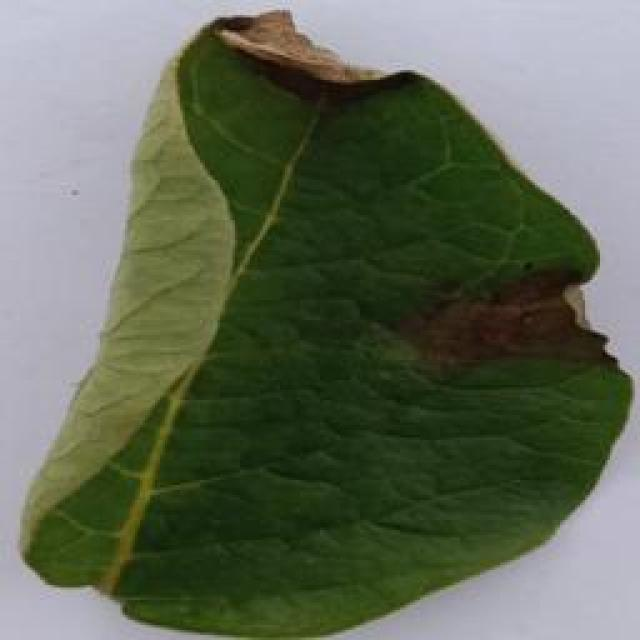Potato_Late_Blight: (18, 13, 620, 636)
